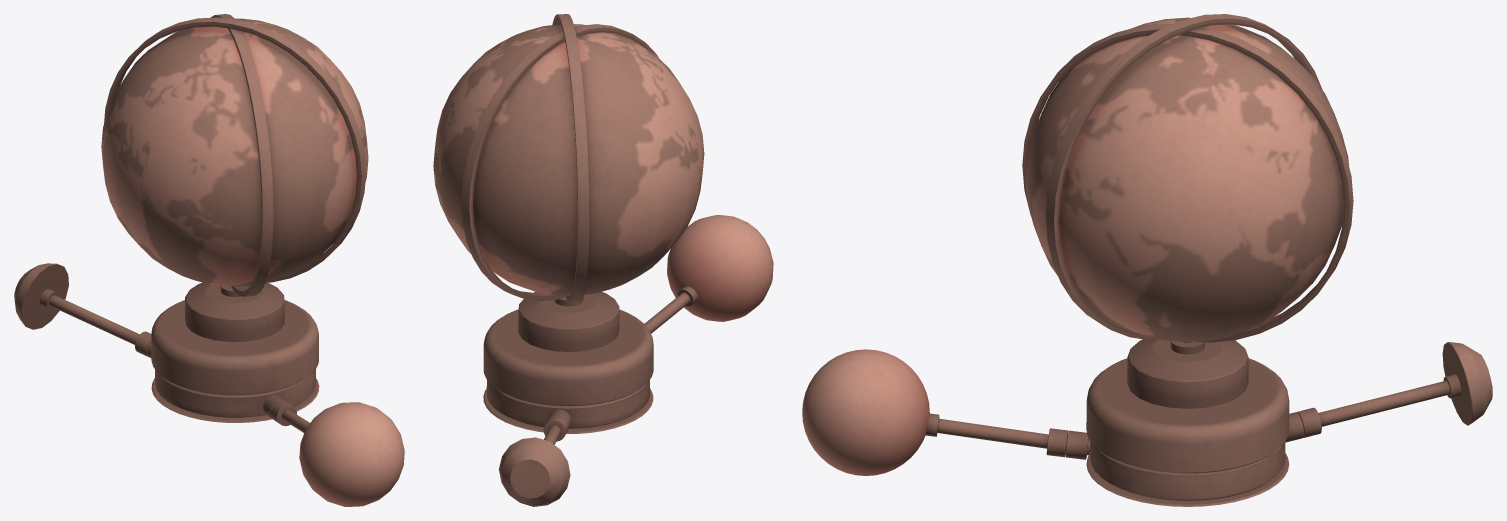
File: relojplanetas.obj
The picture shows the model from 3 angles, left to right: view 1: azimuth 30°, elevation 25°; view 2: azimuth 150°, elevation 25°; view 3: azimuth 270°, elevation 25°; orthographic projection. The views are drawn at different scales.
Visible parts, largest first — view 1: Part_003_part_03_0.001; view 2: Part_003_part_03_0.001; view 3: Part_003_part_03_0.001.
Boxes of the visible parts, x1,y1,x2,y2 form: Part_003_part_03_0.001: (14, 14, 404, 506); Part_003_part_03_0.001: (433, 14, 773, 506); Part_003_part_03_0.001: (802, 14, 1492, 506).
Bounding box in the file's own units: 1.3 × 2.03 × 2.77.
